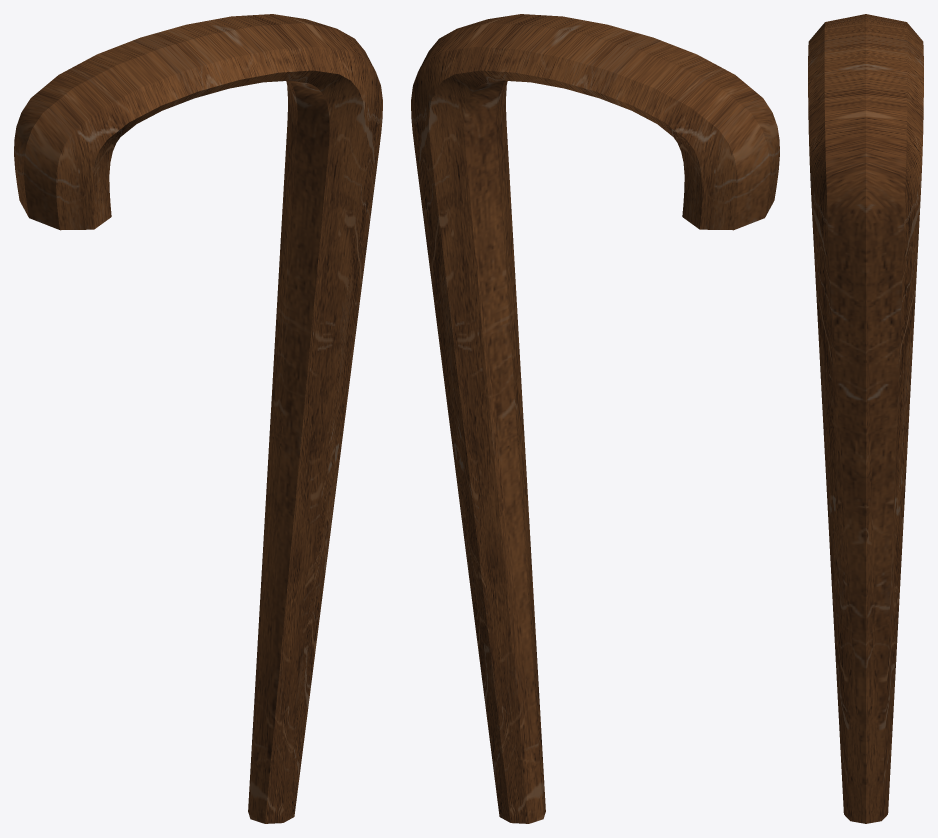
Rendered from Granny_Cane01.fbx.
3 views of the same model, side by side, from view 1: azimuth 30°, elevation 25°; view 2: azimuth 150°, elevation 25°; view 3: azimuth 270°, elevation 25° (orthographic). The views are drawn at different scales.
Parts seen in each view (by area): view 1: cane; view 2: cane; view 3: cane.
Part boxes in pixels (bbox=[...]): cane: bbox=[14, 14, 382, 823]; cane: bbox=[411, 14, 779, 823]; cane: bbox=[808, 14, 923, 823].
Size of the model in its own units: 54.15 by 16.96 by 118.
1 material, 1 textured.
